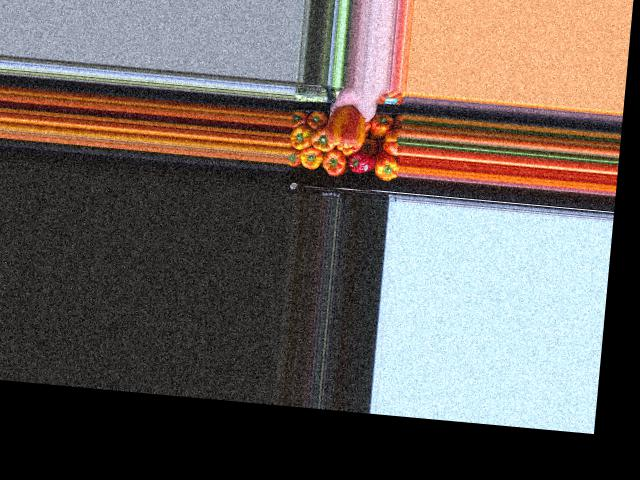bell_pepper: (367, 115, 395, 138)
